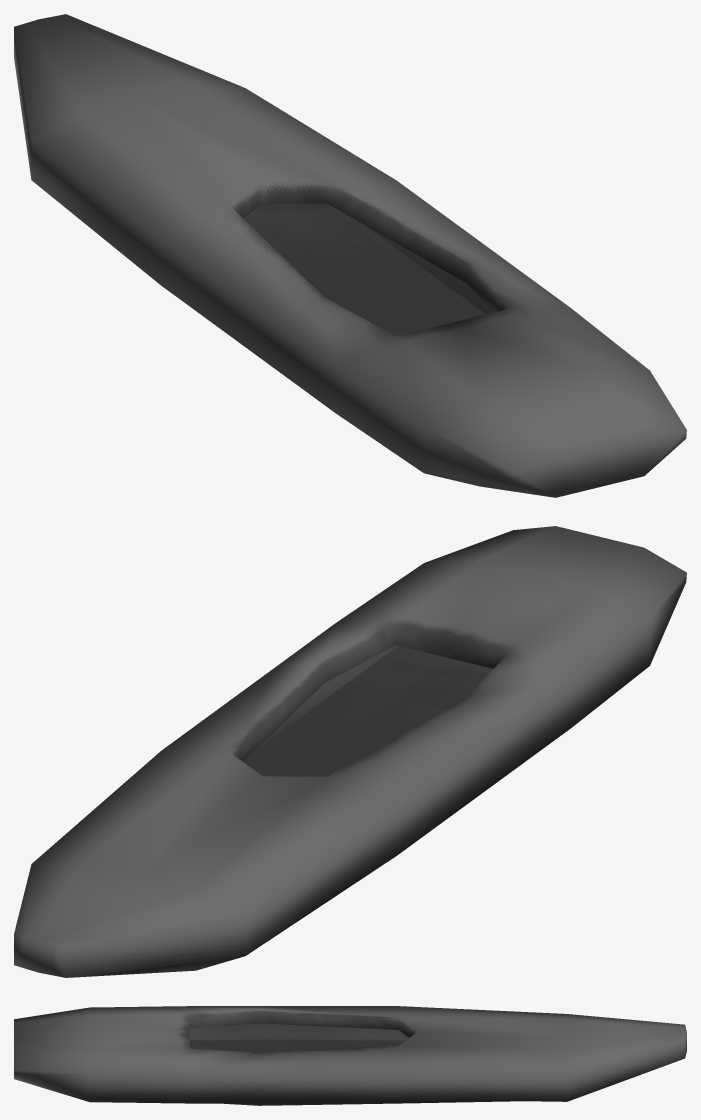
Rendered from Kayak.glb.
The picture shows the model from 3 angles, top to bottom: view 1: azimuth 30°, elevation 25°; view 2: azimuth 150°, elevation 25°; view 3: azimuth 270°, elevation 25°; orthographic projection. The views are drawn at different scales.
Visible parts, largest first — view 1: Kayak; view 2: Kayak; view 3: Kayak.
Boxes of the visible parts, x1,y1,x2,y2 form: Kayak: [14, 14, 686, 497]; Kayak: [14, 526, 686, 977]; Kayak: [14, 1006, 686, 1105].
Size of the model in its own units: 1.06 by 0.3813 by 4.36.
1 material, 1 textured.
